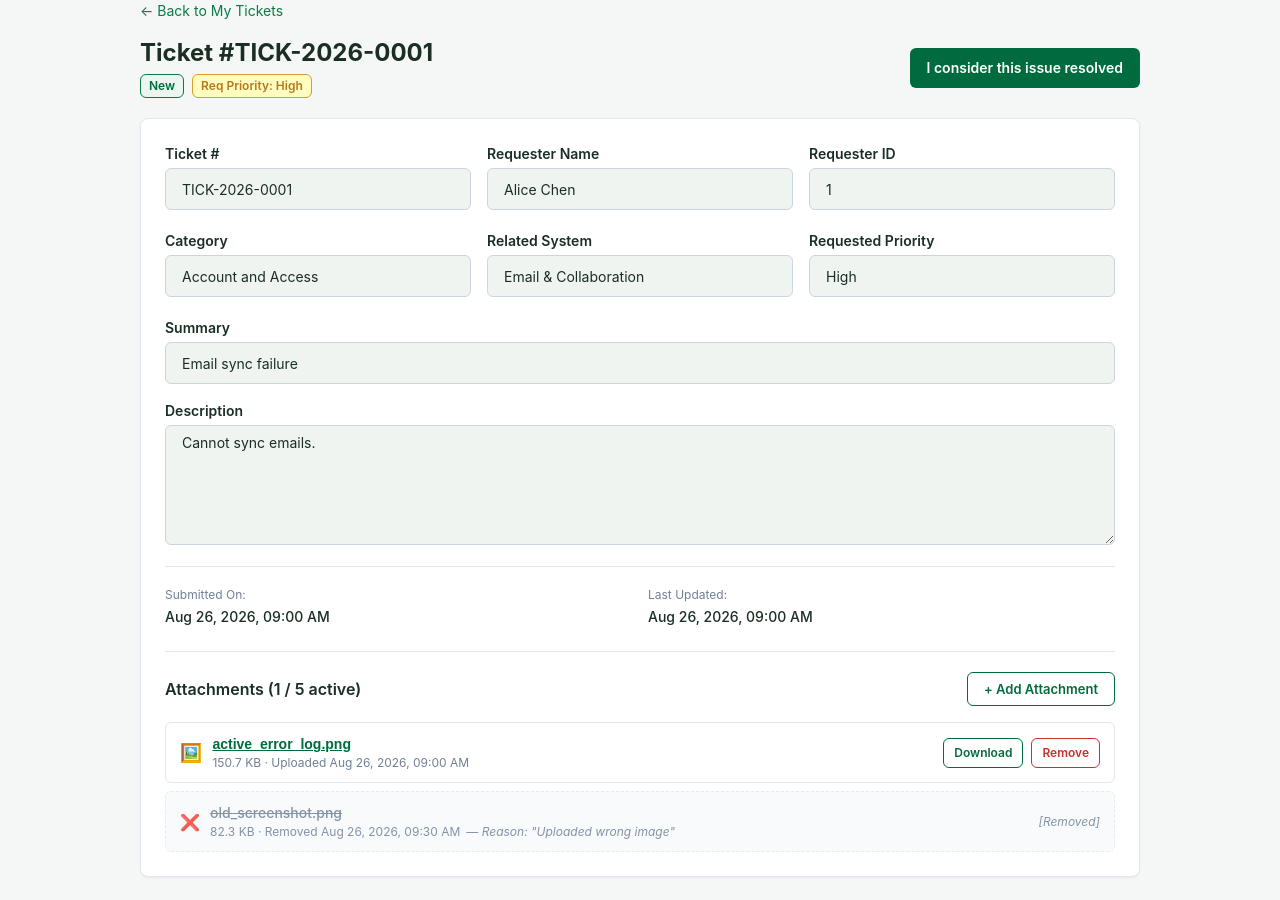
Test: Lab 02 Feature 10 — Attachment Section & Previews › opens Removal Reason Modal and requires non-empty reason before confirming
The image size is (1280, 900).
Click the button "Remove": (1066,753) [1031,738,1100,768]
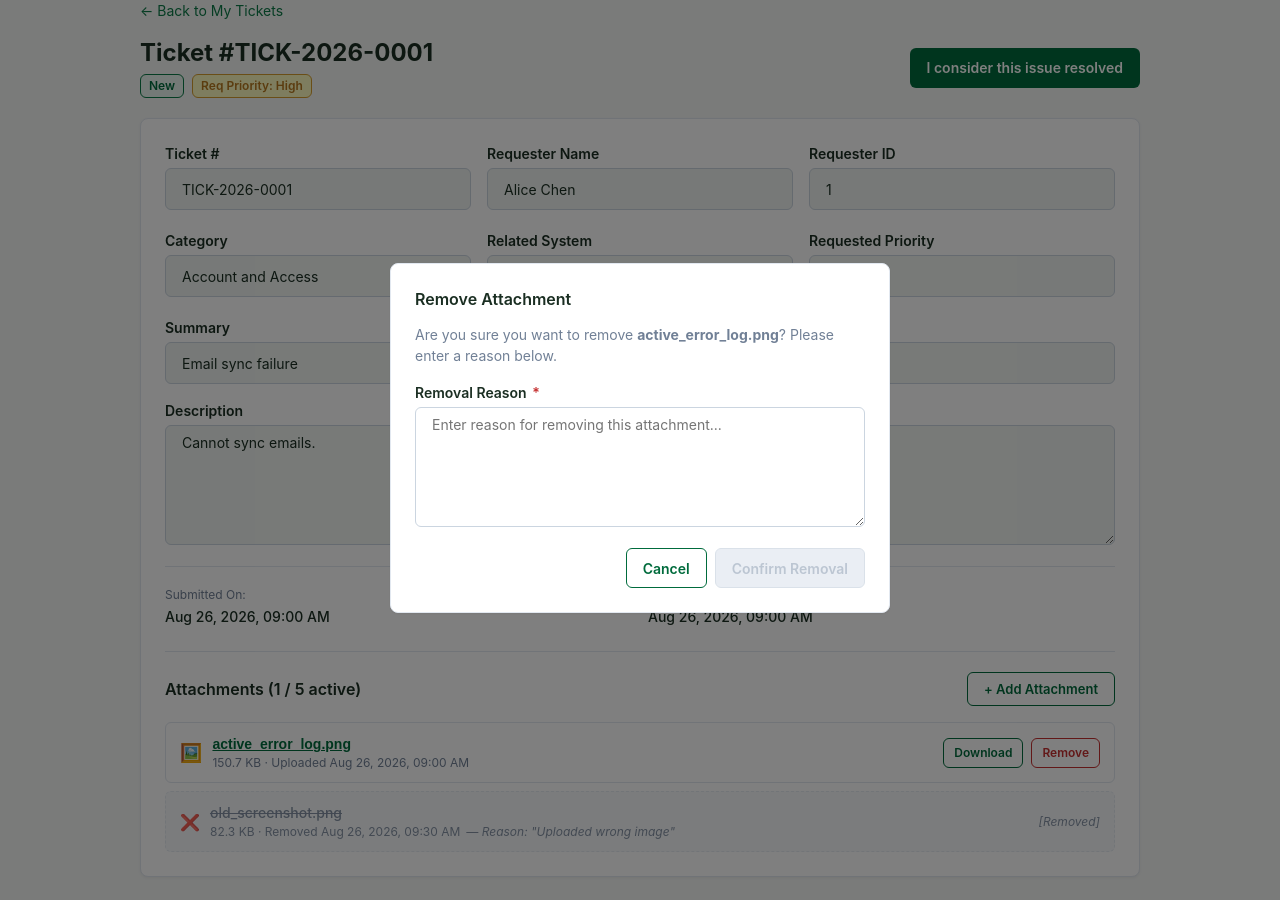
Expected: the heading "Remove Attachment" is shown, [415,289,571,309]
Expected: the button "Confirm Removal" is disabled, [715,548,865,588]
In the text box with placeholder "Enter reason for removing this attachment...": (640,467) [415,407,865,527], type "A"
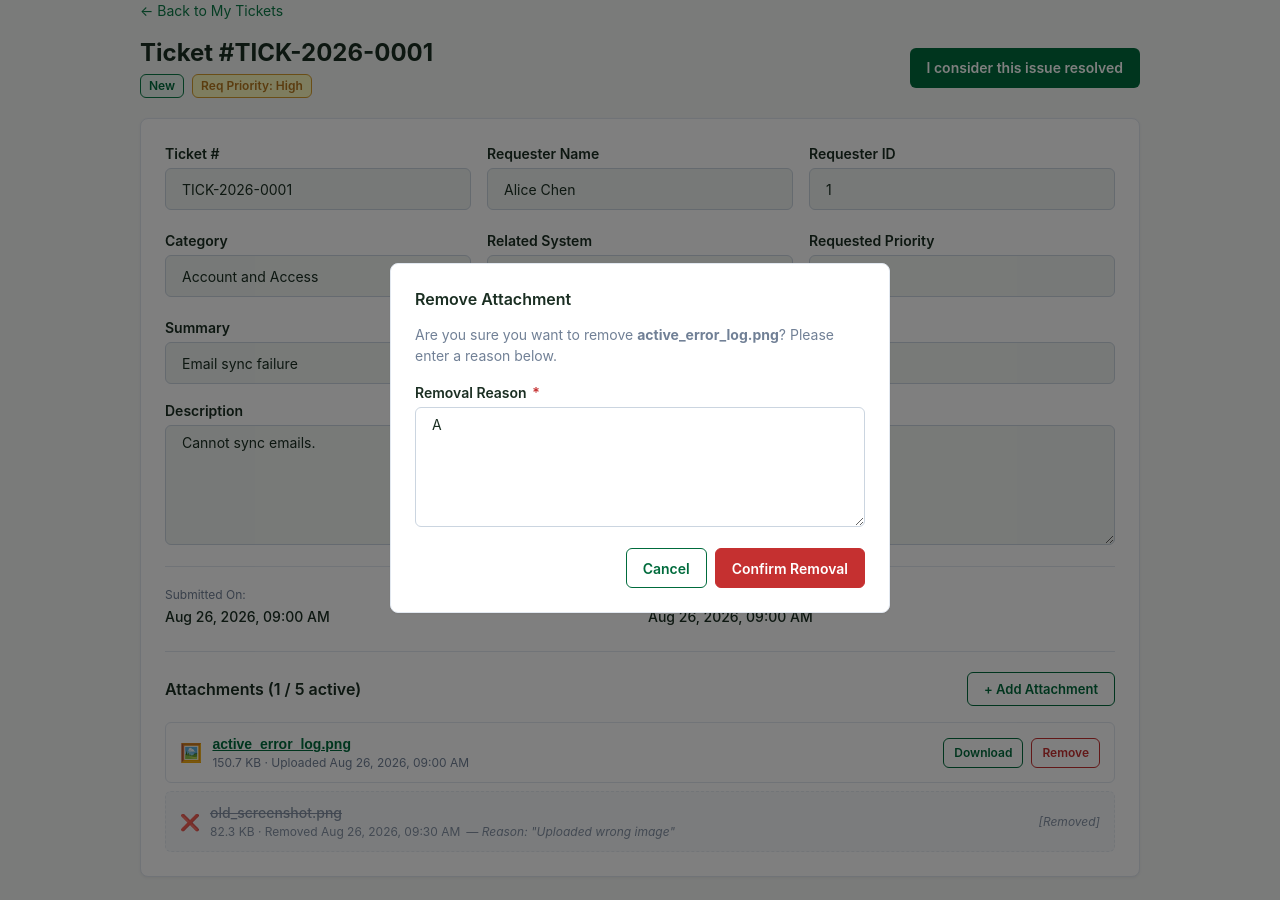
Expected: the button "Confirm Removal" is enabled, [715,548,865,588]
